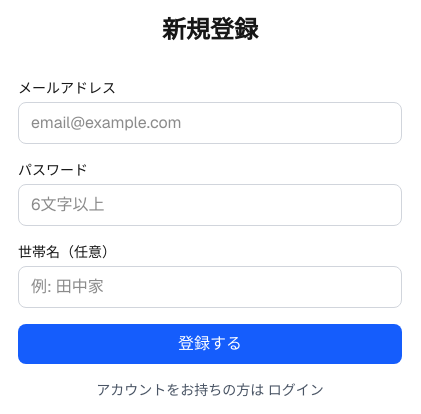
SignupPage › disables button while loading
Type "test@example.com" into the field labelled "メールアドレス".
click(210, 123); type("test@example.com")  # box x1=18 y1=102 x2=402 y2=144
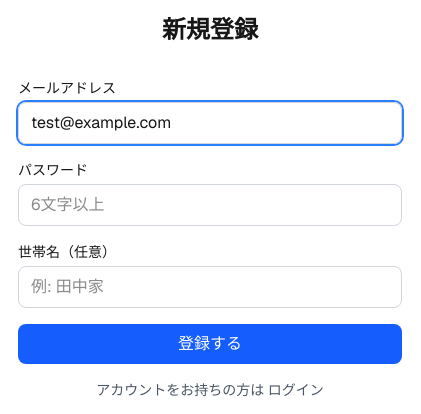
Type "password123" into the password field labelled "パスワード".
click(210, 205); type("password123")  # box x1=18 y1=184 x2=402 y2=226
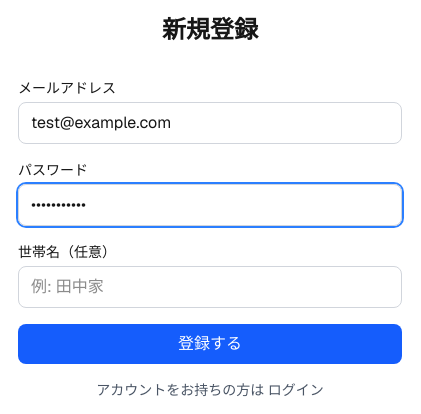
Click the button "登録する".
click(210, 344)  # box x1=18 y1=324 x2=402 y2=364
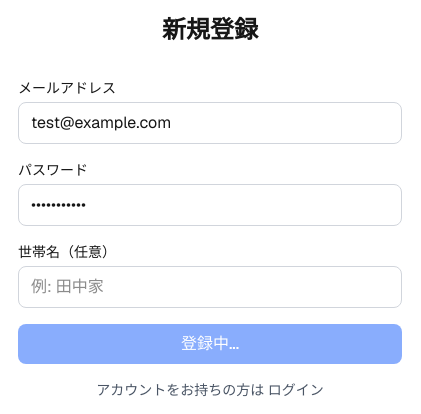
Check: the button "登録中..." is disabled, box x1=18 y1=324 x2=402 y2=364
